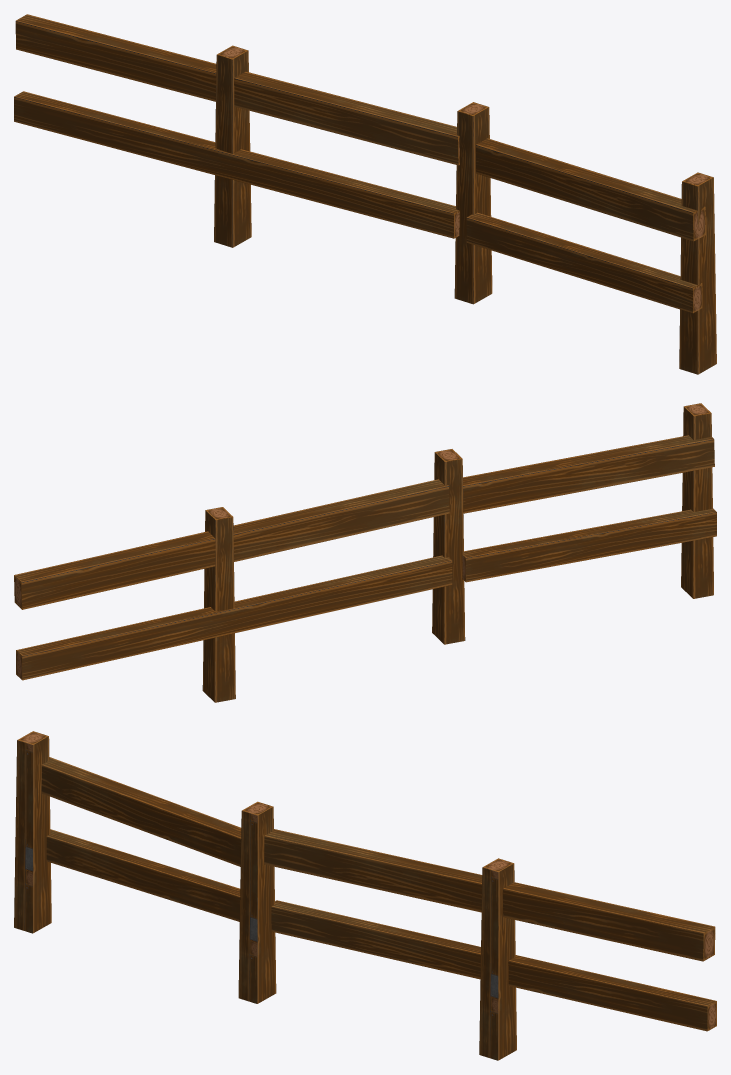
3 renders of one model, top to bottom at view 1: azimuth 90°, elevation 25°; view 2: azimuth 150°, elevation 25°; view 3: azimuth 270°, elevation 25°, orthographic. The views are drawn at different scales.
Parts seen in each view (by area): view 1: Cube.022; view 2: Cube.022; view 3: Cube.022.
Part boxes in pixels (<box>): Cube.022: <box>14,14,716,374</box>; Cube.022: <box>14,403,716,702</box>; Cube.022: <box>14,731,716,1060</box>.
Size of the model in its own units: 289 by 132 by 449.
1 material, 1 textured.
